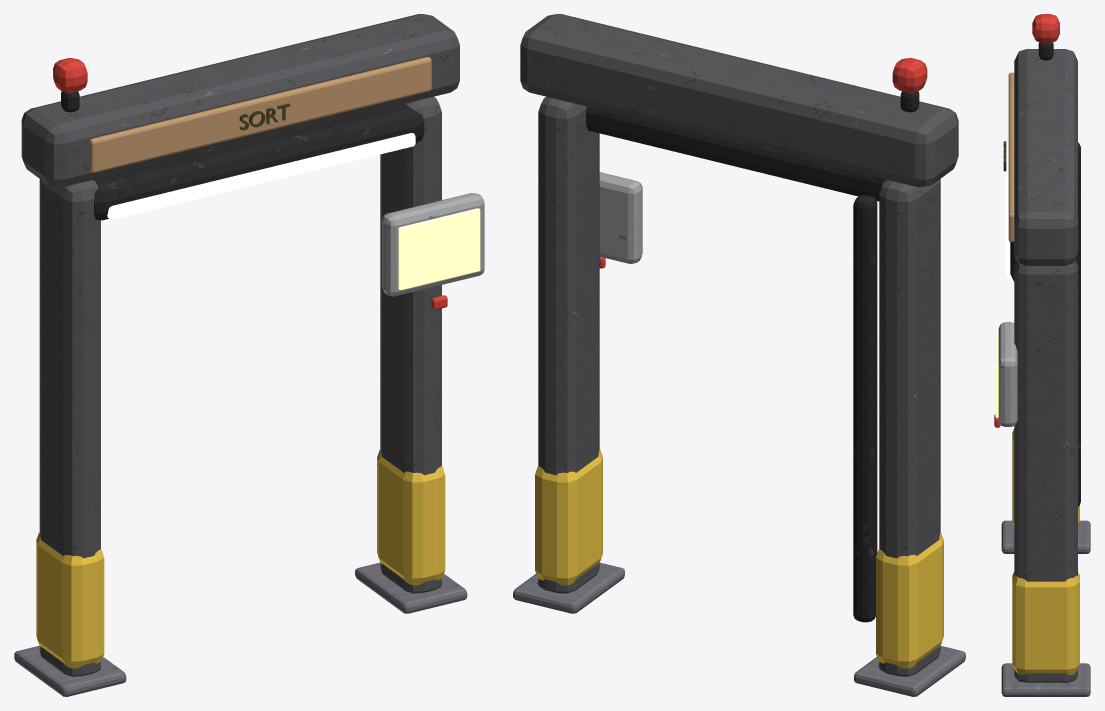
File: decor_cargo_sorter.glb
The picture shows the model from 3 angles, left to right: view 1: azimuth 30°, elevation 25°; view 2: azimuth 150°, elevation 25°; view 3: azimuth 270°, elevation 25°; orthographic projection. The views are drawn at different scales.
Visible parts, largest first — view 1: DEC_CargoSorter__Header, DEC_CargoSorter__Leg_L, DEC_CargoSorter__Leg_R, DEC_CargoSorter__Header_Band, DEC_CargoSorter__Scanner_Housing, DEC_CargoSorter__Leg_Hazard_R, DEC_CargoSorter__Leg_Hazard_L, DEC_CargoSorter__Screen, DEC_CargoSorter__Scanner_Bar, DEC_CargoSorter__Screen_Bezel, DEC_CargoSorter__Leg_Foot_R, DEC_CargoSorter__Leg_Foot_L (+1 smaller); view 2: DEC_CargoSorter__Header, DEC_CargoSorter__Leg_L, DEC_CargoSorter__Leg_R, DEC_CargoSorter__Cable_Trunk, DEC_CargoSorter__Leg_Hazard_R, DEC_CargoSorter__Leg_Hazard_L, DEC_CargoSorter__Scanner_Housing, DEC_CargoSorter__Screen_Bezel, DEC_CargoSorter__Leg_Foot_R, DEC_CargoSorter__Leg_Foot_L, DEC_CargoSorter__Beacon; view 3: DEC_CargoSorter__Leg_R, DEC_CargoSorter__Header, DEC_CargoSorter__Leg_Hazard_R, DEC_CargoSorter__Screen_Bezel, DEC_CargoSorter__Leg_Foot_R, DEC_CargoSorter__Header_Band, DEC_CargoSorter__Cable_Trunk, DEC_CargoSorter__Leg_Foot_L, DEC_CargoSorter__Beacon, DEC_CargoSorter__Scanner_Bar, DEC_CargoSorter__Screen, DEC_CargoSorter__Leg_Hazard_L (+2 smaller).
Part boxes in pixels (bbox=[...]): DEC_CargoSorter__Header: bbox=[21, 14, 459, 187]; DEC_CargoSorter__Leg_L: bbox=[39, 179, 100, 676]; DEC_CargoSorter__Leg_R: bbox=[380, 96, 441, 593]; DEC_CargoSorter__Header_Band: bbox=[89, 57, 431, 172]; DEC_CargoSorter__Scanner_Housing: bbox=[93, 104, 424, 220]; DEC_CargoSorter__Leg_Hazard_R: bbox=[377, 449, 445, 585]; DEC_CargoSorter__Leg_Hazard_L: bbox=[36, 532, 104, 668]; DEC_CargoSorter__Screen: bbox=[398, 208, 480, 289]; DEC_CargoSorter__Scanner_Bar: bbox=[107, 133, 415, 219]; DEC_CargoSorter__Screen_Bezel: bbox=[382, 193, 484, 296]; DEC_CargoSorter__Leg_Foot_R: bbox=[355, 562, 467, 613]; DEC_CargoSorter__Leg_Foot_L: bbox=[14, 645, 126, 696]; DEC_CargoSorter__Header: bbox=[520, 14, 958, 187]; DEC_CargoSorter__Leg_L: bbox=[879, 179, 940, 676]; DEC_CargoSorter__Leg_R: bbox=[538, 96, 599, 593]; DEC_CargoSorter__Cable_Trunk: bbox=[853, 195, 877, 622]; DEC_CargoSorter__Leg_Hazard_R: bbox=[535, 449, 602, 585]; DEC_CargoSorter__Leg_Hazard_L: bbox=[876, 533, 943, 668]; DEC_CargoSorter__Scanner_Housing: bbox=[586, 106, 886, 201]; DEC_CargoSorter__Screen_Bezel: bbox=[599, 172, 642, 263]; DEC_CargoSorter__Leg_Foot_R: bbox=[513, 562, 624, 613]; DEC_CargoSorter__Leg_Foot_L: bbox=[854, 646, 965, 696]; DEC_CargoSorter__Beacon: bbox=[892, 58, 927, 92]; DEC_CargoSorter__Leg_R: bbox=[1014, 260, 1077, 682]; DEC_CargoSorter__Header: bbox=[1014, 49, 1077, 265]; DEC_CargoSorter__Leg_Hazard_R: bbox=[1012, 571, 1079, 674]; DEC_CargoSorter__Screen_Bezel: bbox=[998, 322, 1017, 426]; DEC_CargoSorter__Leg_Foot_R: bbox=[1001, 663, 1090, 696]; DEC_CargoSorter__Header_Band: bbox=[1008, 72, 1014, 242]; DEC_CargoSorter__Cable_Trunk: bbox=[1075, 142, 1080, 506]; DEC_CargoSorter__Leg_Foot_L: bbox=[1001, 520, 1090, 553]; DEC_CargoSorter__Beacon: bbox=[1032, 14, 1059, 42]; DEC_CargoSorter__Scanner_Bar: bbox=[1006, 141, 1011, 277]; DEC_CargoSorter__Screen: bbox=[995, 331, 998, 417]; DEC_CargoSorter__Leg_Hazard_L: bbox=[1012, 429, 1079, 524].
Bounding box in the file's own units: 2 × 2.75 × 0.455.
10 materials, 4 textured.
